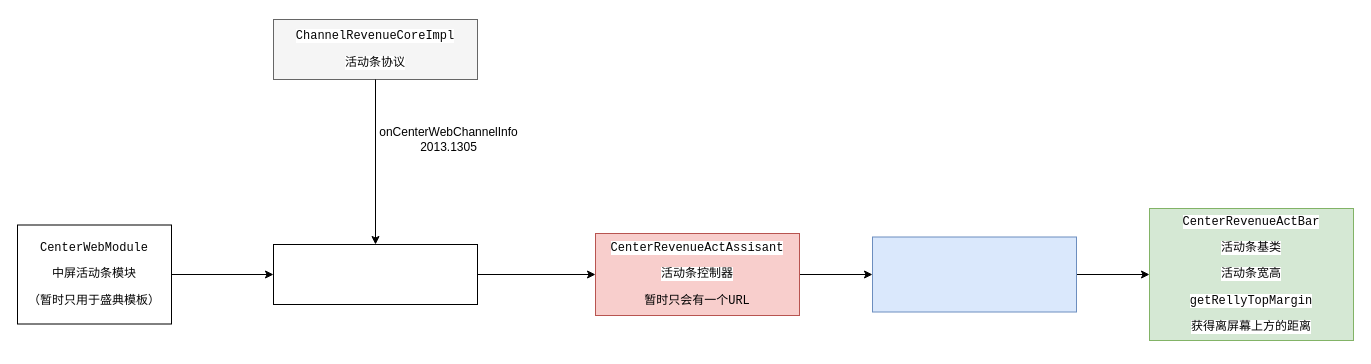
The diagram is 1371 pixels wide and 364 high, and some of its shapes have lost their labels. Each missing label, with the centre of its shape:
"CenterRevenueActController 中屏 活动条控制器" belongs at [375,274].
"CenterWebRevenueActBar Web活动条 拖拽逻辑" belongs at [974,274].
